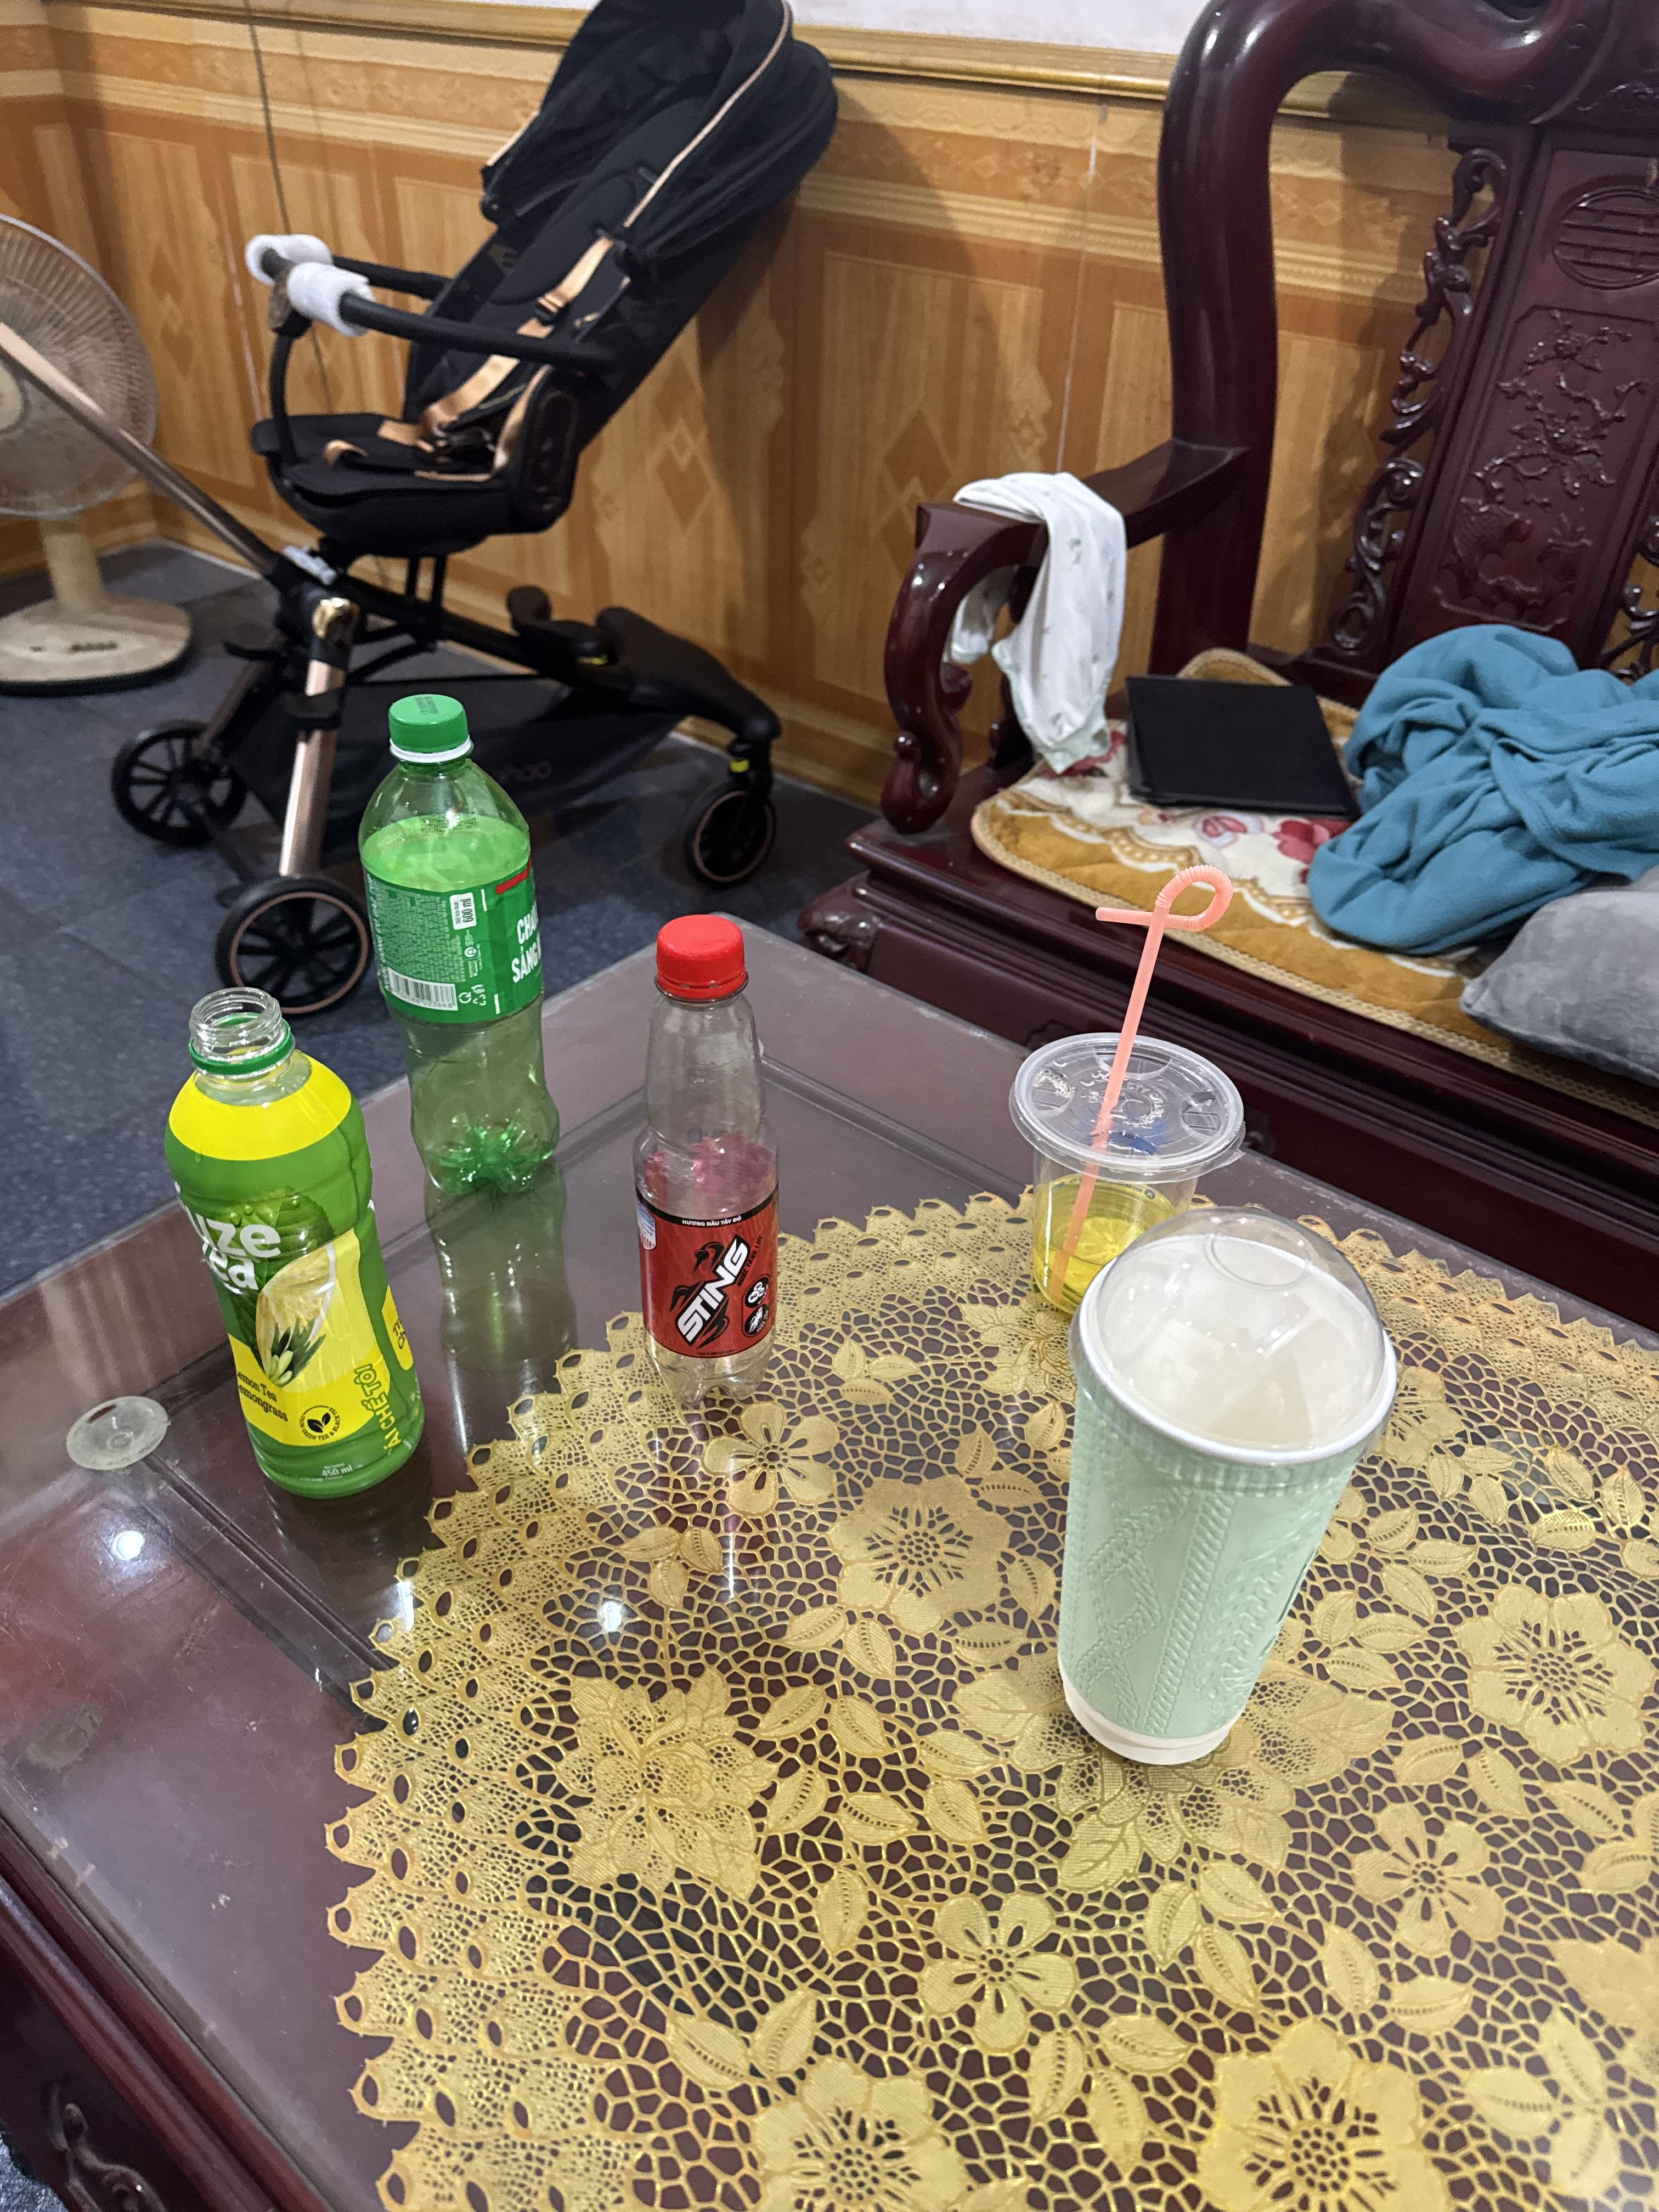2: (1037, 1200, 1445, 1844), (979, 1000, 1249, 1353)
bottle: (153, 967, 462, 1503), (340, 678, 610, 1223), (594, 899, 831, 1425)
